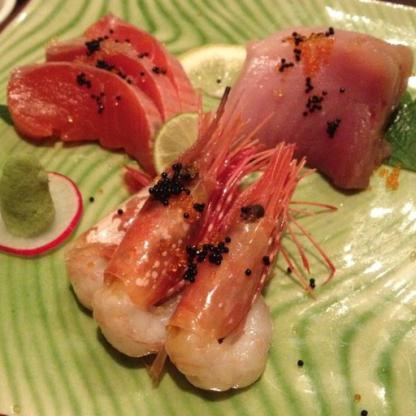salmon: (8, 18, 190, 170)
shrimp: (98, 112, 259, 358), (172, 144, 307, 393)
